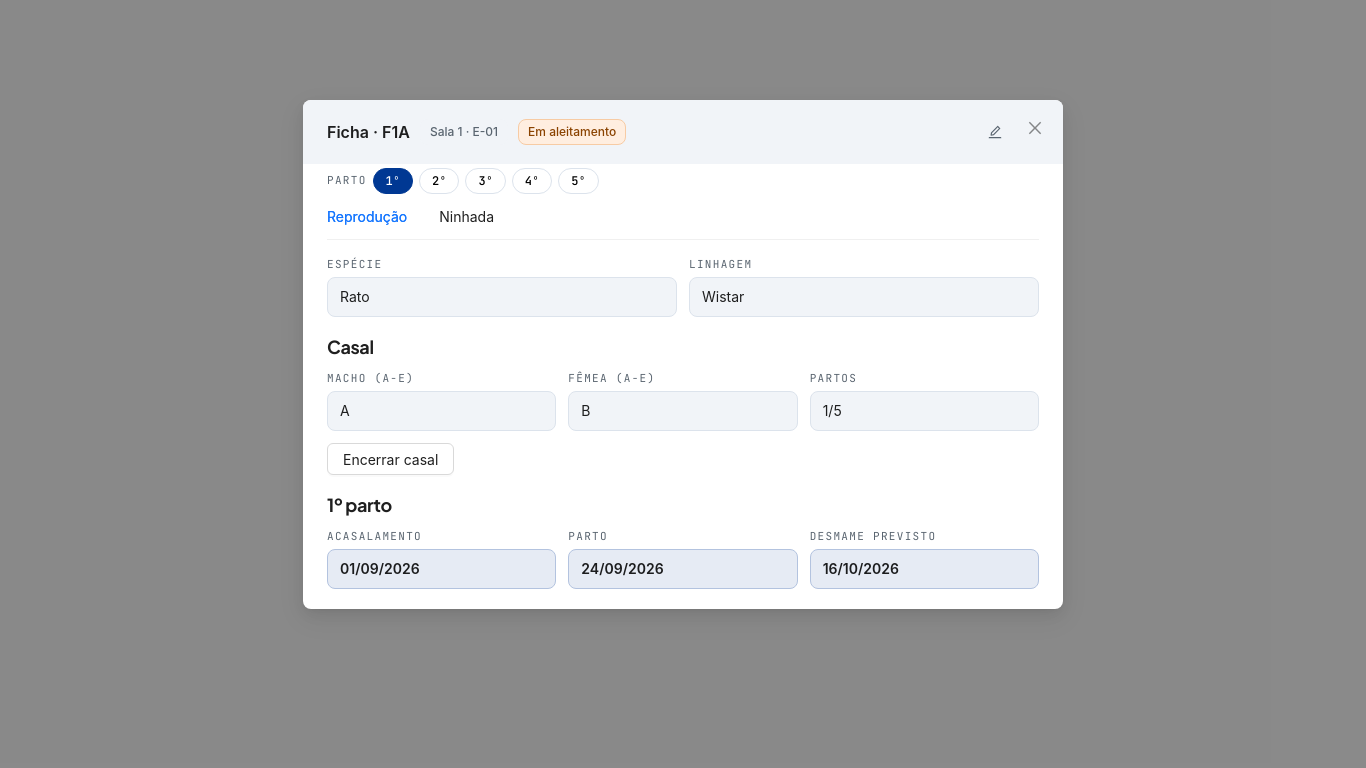
Test: formulários da ficha › a recusa da API aparece no campo que ela aponta, e não só "confira os campos"
The width and height of the screenshot is (1366, 768).
Click the tab "Ninhada". click: [467, 217]
box: [439, 206, 494, 228]
(page scrolled)
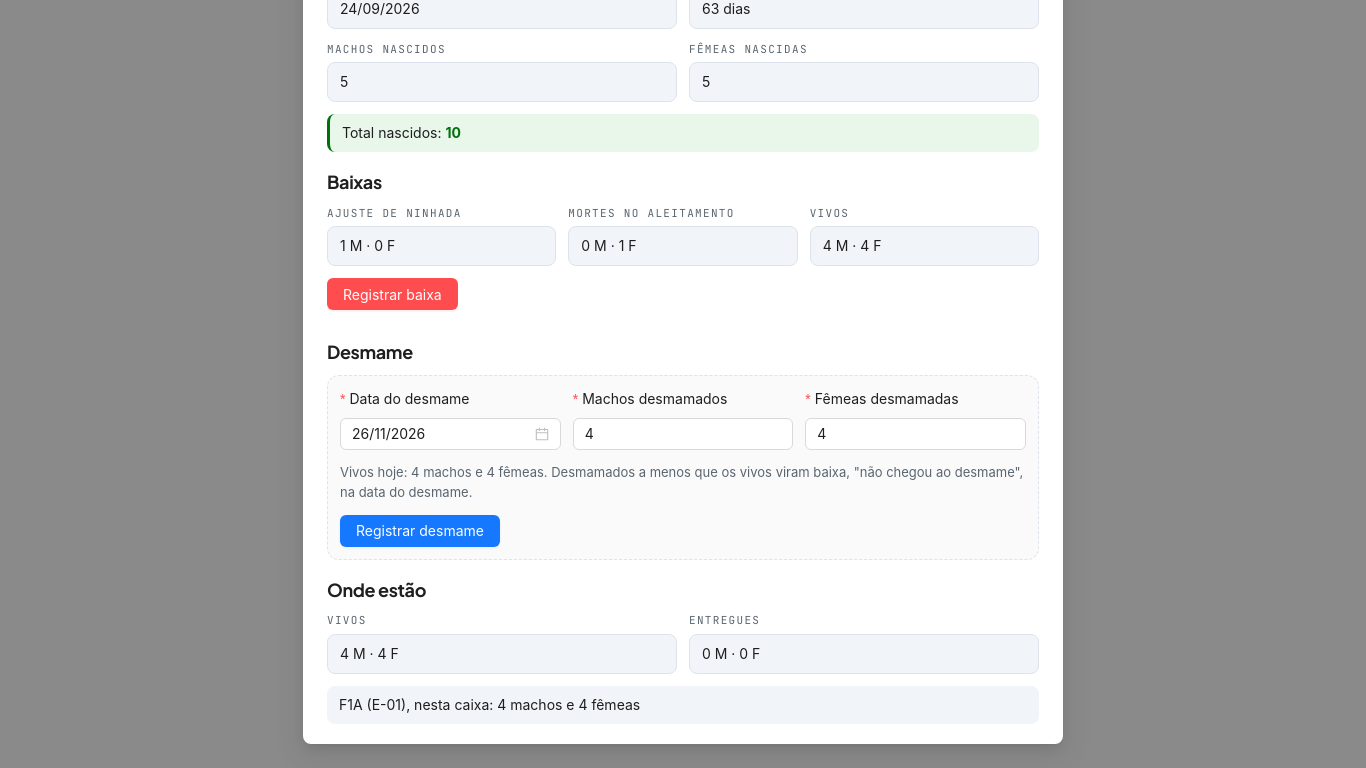
Click the button "Registrar desmame". click: [420, 531]
box: [340, 515, 500, 547]
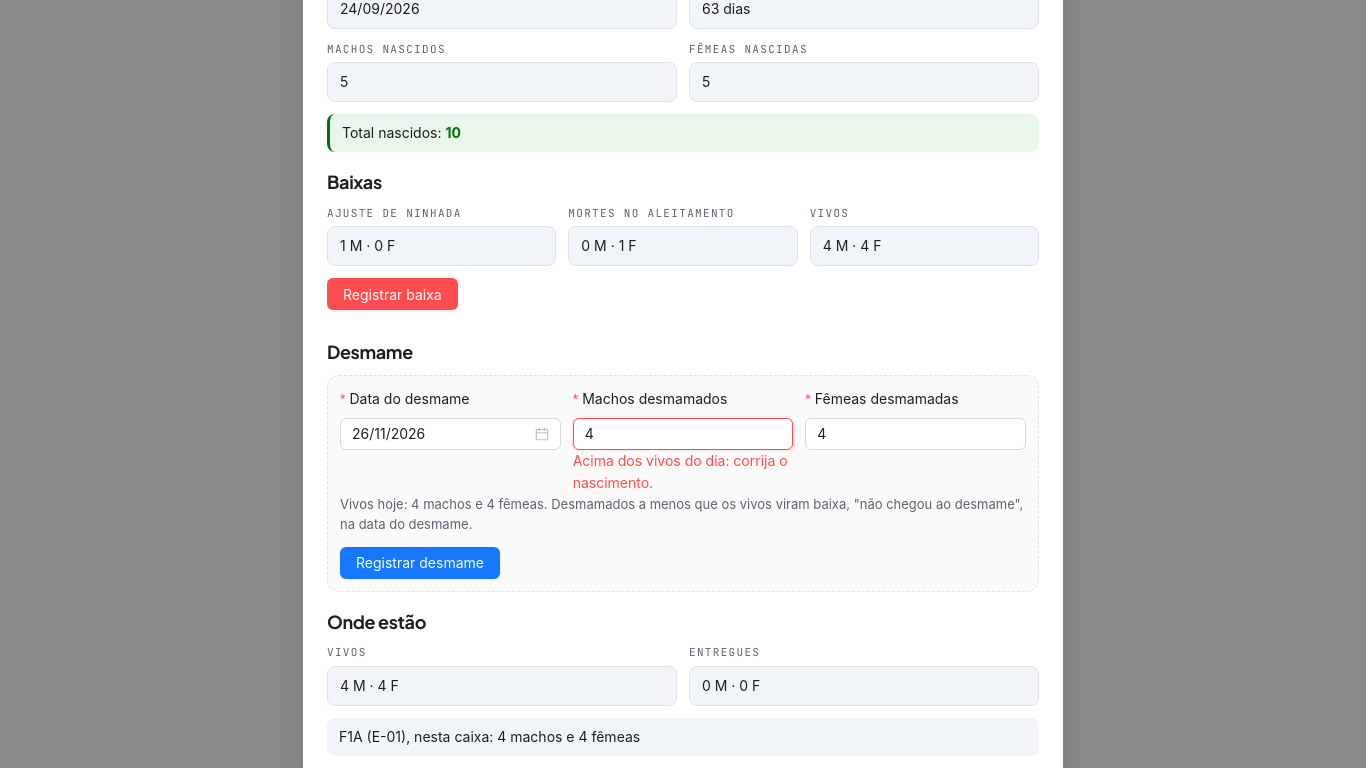
Check: the text "Acima dos vivos do dia: corrija o nascimento." is shown, box [573, 450, 793, 494]
